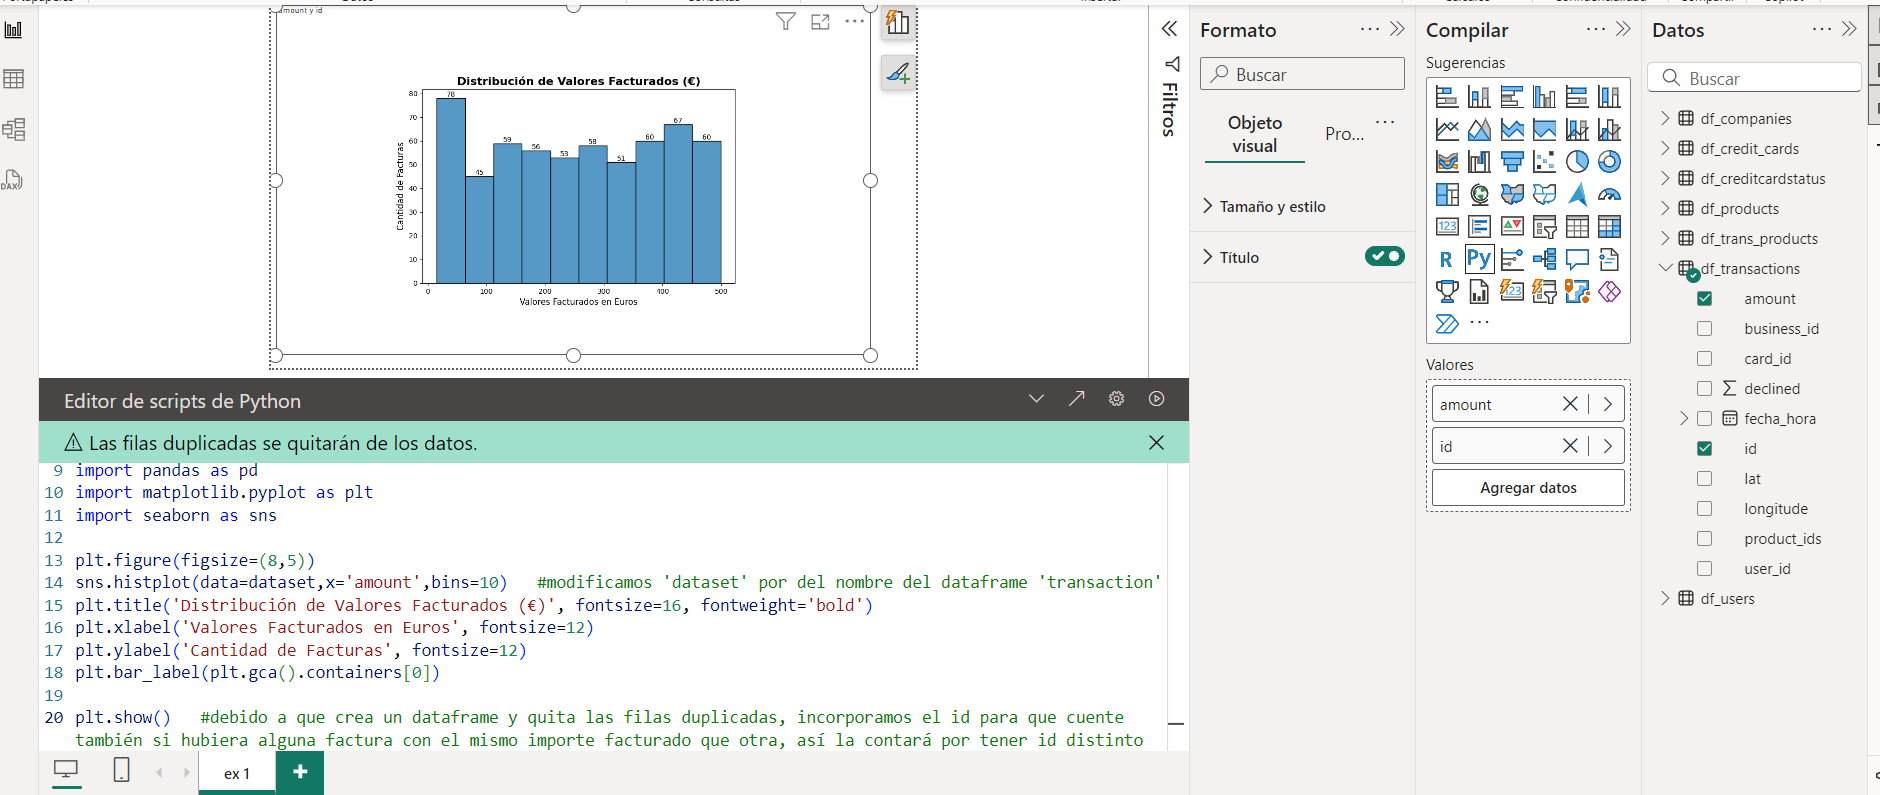

Layout of this report page (visuals, bound fields, positions):
{"tool":"powerbi","page":{"name":"ex 1","canvas":[1280,720],"ordinal":0},"visuals":[{"type":"pythonVisual","fields":{"Values":["df_transactions.amount","df_transactions.id"]},"box":[9.9,0,1180.2,694.2],"z":0}]}

Visuals, with their boxes on the page's 1280x720 design canvas (x1, y1, x2, y2). These are canvas units, not pixel positions in the 1880x795 screenshot, which may show the page scaled, cropped or inside an application window:
pythonVisual - df_transactions.amount x df_transactions.id: BBox(10, 0, 1190, 694)
